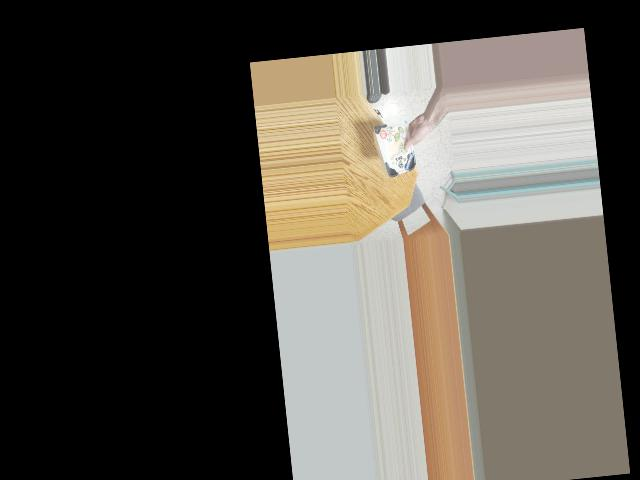cheese: (372, 120, 418, 178)
